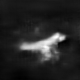plane: (20, 30, 67, 62)
